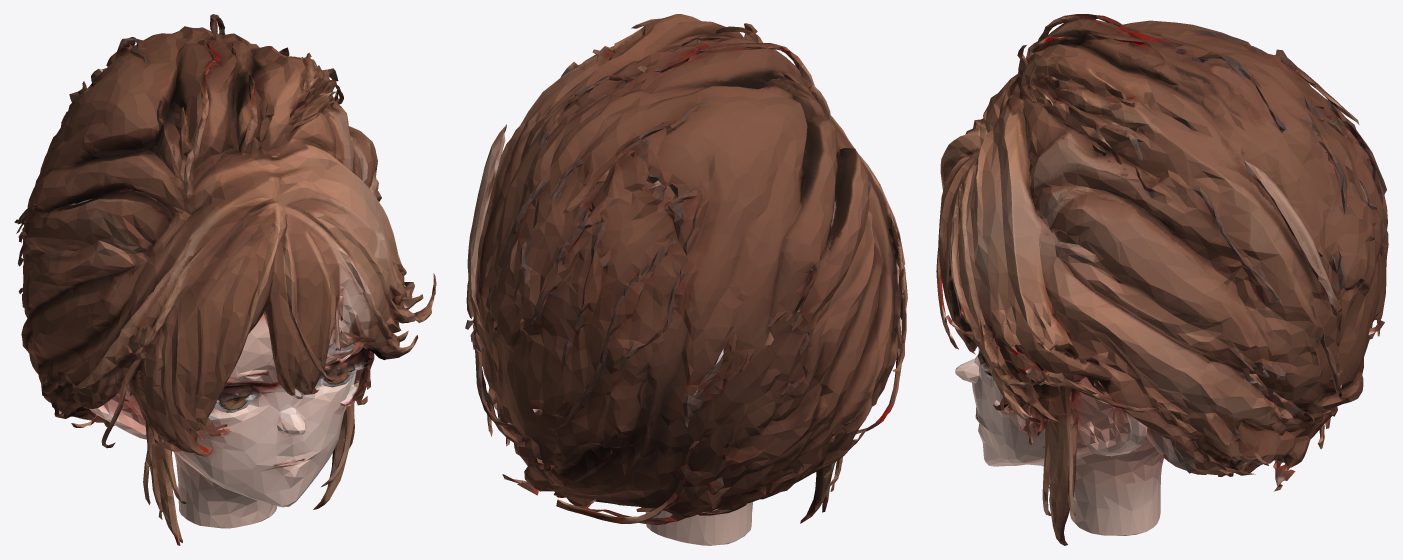
File: side_h_herbalist_repaired_atlas.glb
3 renders of one model, left to right at view 1: azimuth 30°, elevation 25°; view 2: azimuth 150°, elevation 25°; view 3: azimuth 270°, elevation 25°, orthographic. The views are drawn at different scales.
Parts seen in each view (by area): view 1: temp_mesh.ply; view 2: temp_mesh.ply; view 3: temp_mesh.ply.
Part boxes in pixels (box(x1,y1,x2,y2)): temp_mesh.ply: box(14, 14, 436, 545); temp_mesh.ply: box(465, 14, 907, 545); temp_mesh.ply: box(936, 14, 1388, 545).
Bounding box in the file's own units: 1.58 × 1.97 × 1.67.
Materials: 1 (1 with a texture image).
